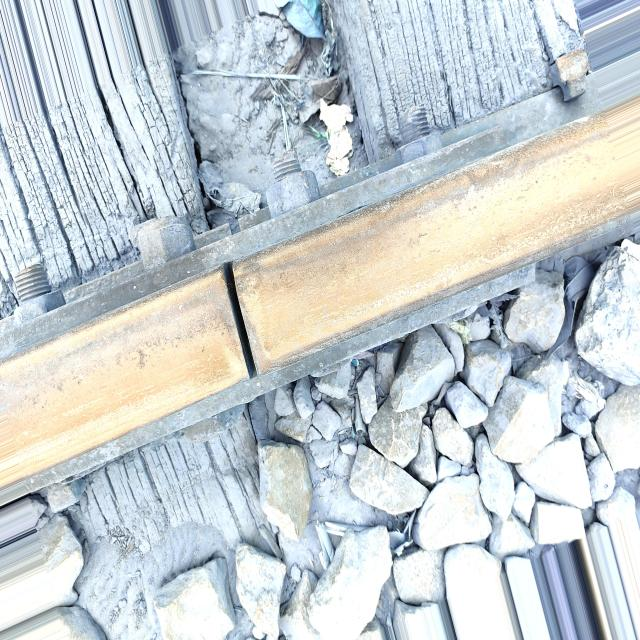crack: (188, 238, 285, 407)
